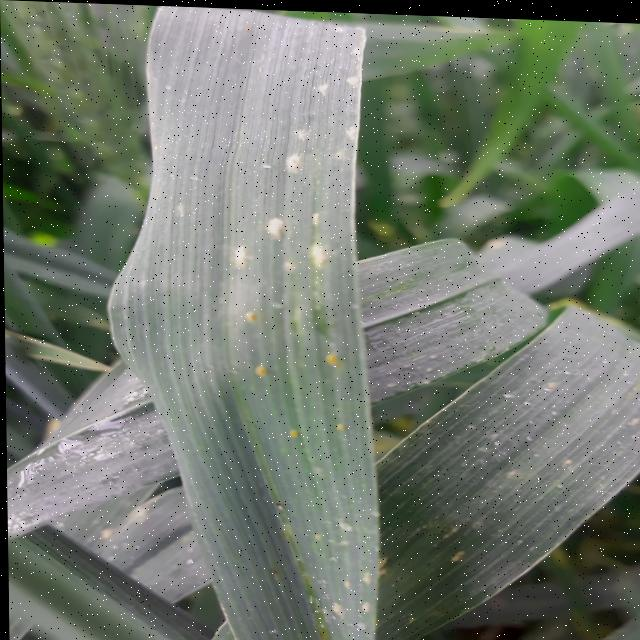orang_rust: (209, 305, 365, 454), (225, 561, 346, 640), (601, 326, 640, 386), (623, 624, 640, 640)
powder_mildew: (336, 380, 640, 625), (138, 19, 389, 292)
